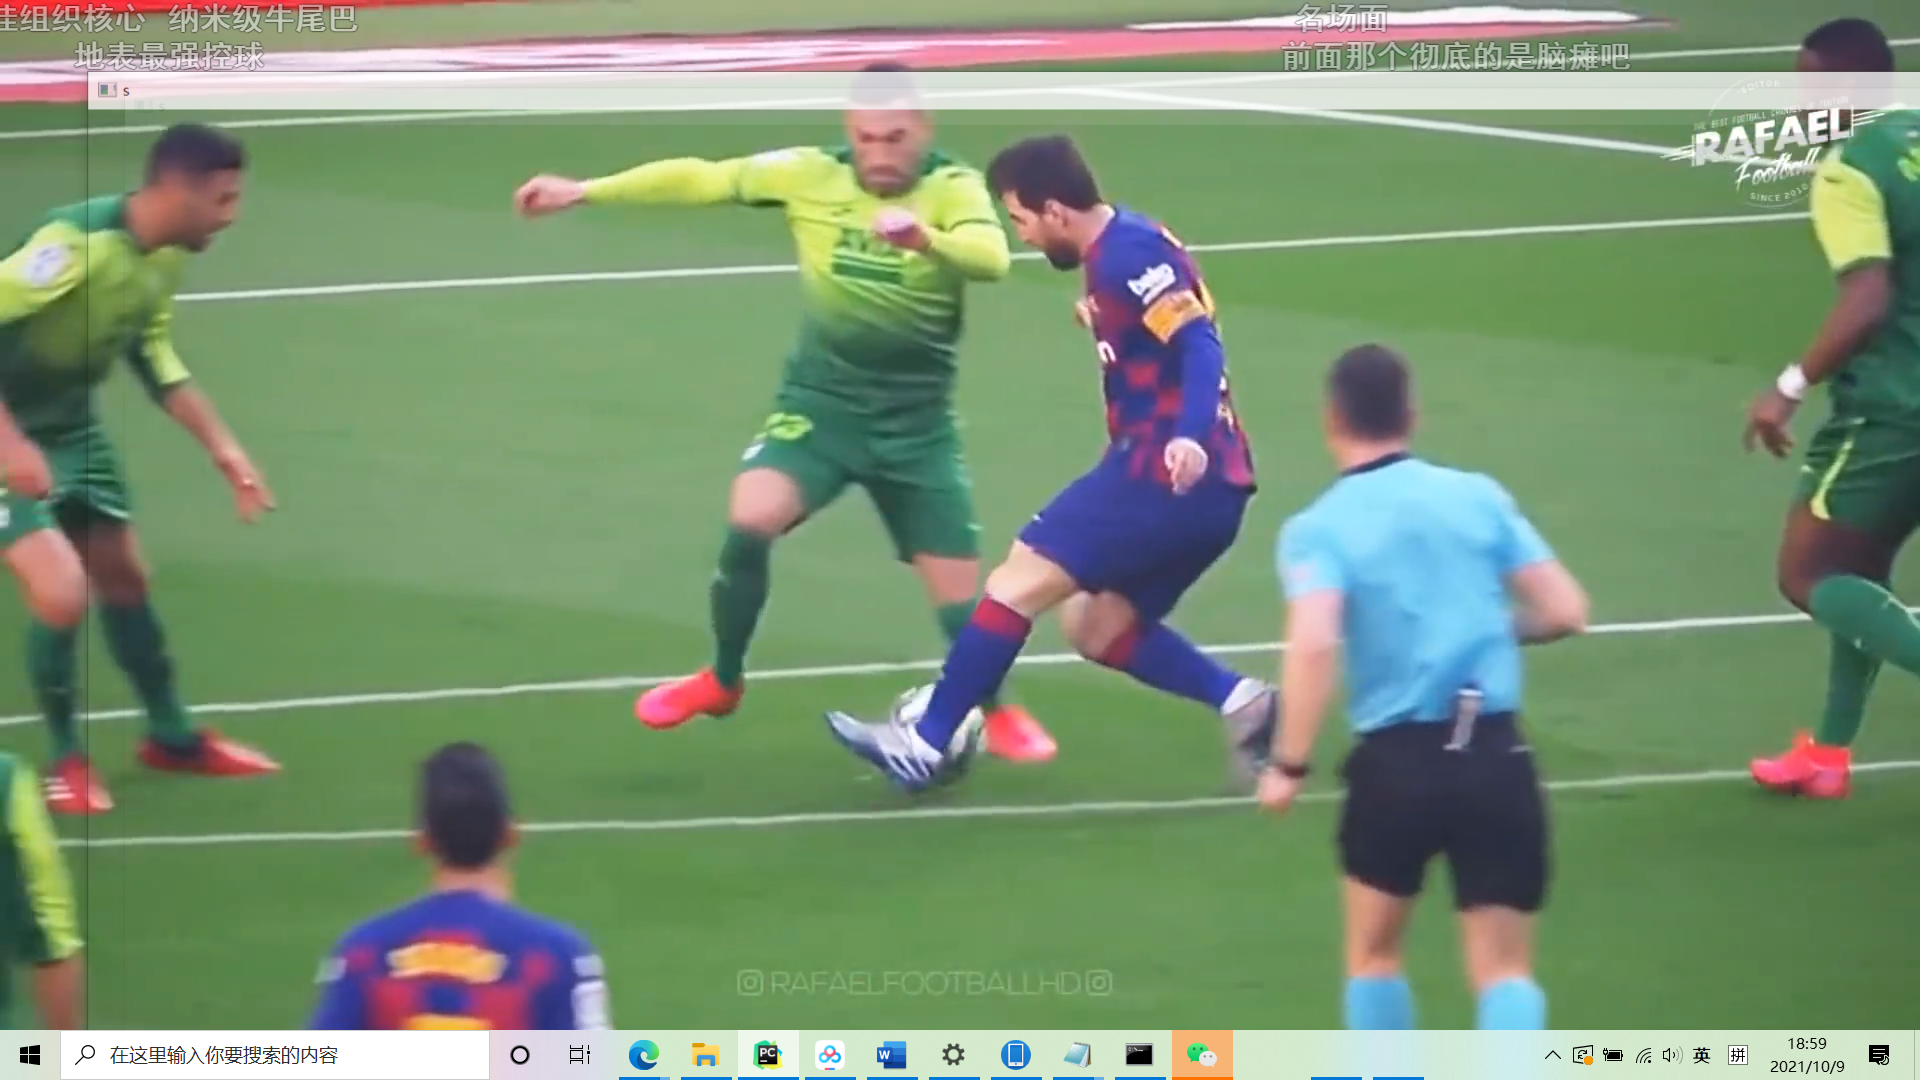ft: (891, 674, 997, 782)
